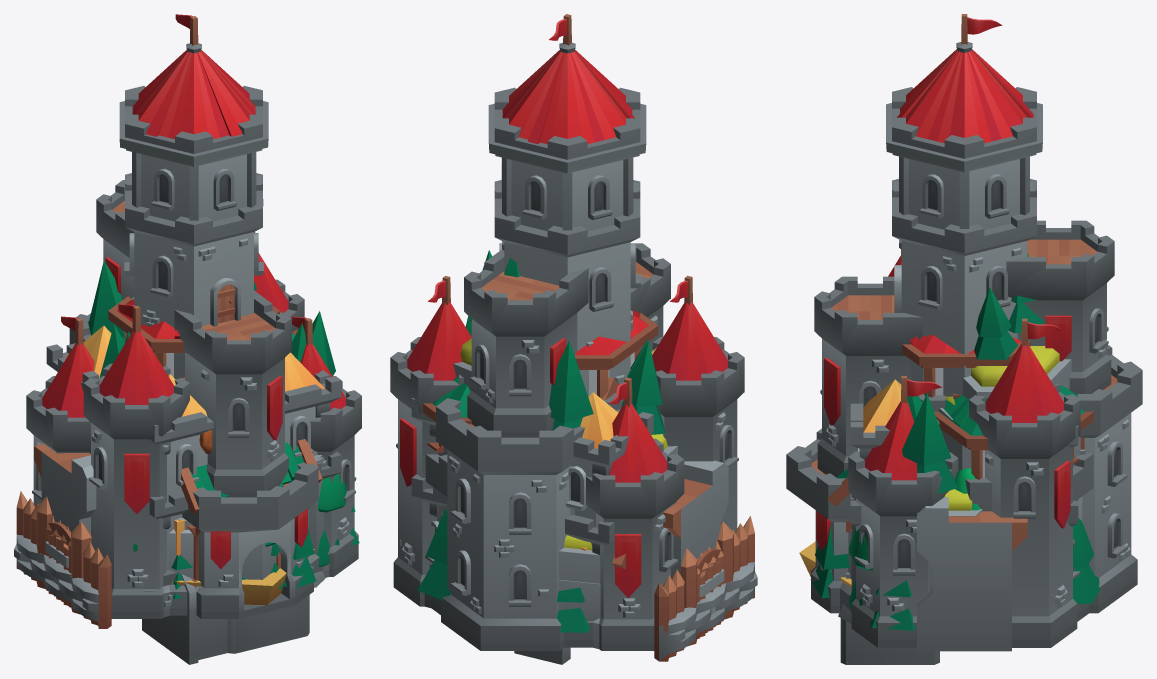
The model's file is map.glb.
3 renders of one model, left to right at view 1: azimuth 30°, elevation 25°; view 2: azimuth 150°, elevation 25°; view 3: azimuth 270°, elevation 25°, orthographic. The views are drawn at different scales.
Parts seen in each view (by area): view 1: building_castle_red, building_barracks_yellow, building_watermill_green, mountain_A_grass_trees, wall_straight_gate, fence_stone_straight, fence_wood_straight, fence_wood_straight_gate, building_tower_A_top_red, wall_straight, mountain_B_grass_trees, trees_B_large (+3 smaller); view 2: building_castle_red, building_barracks_yellow, mountain_A_grass_trees, fence_stone_straight, wall_straight, fence_wood_straight, building_tower_A_top_red, mountain_B_grass_trees, trees_A_large, fence_wood_straight_gate, building_archeryrange_green, wall_straight_gate (+2 smaller); view 3: building_castle_red, wall_straight, mountain_B_grass_trees, wall_straight_gate, building_archeryrange_green, trees_A_large, building_barracks_yellow, mountain_A_grass_trees, building_watermill_green, building_tower_A_top_red, trees_B_large.
Boxes of the visible parts, x1,y1,x2,y2 form: building_castle_red: (26, 14, 361, 618); building_barracks_yellow: (46, 325, 341, 617); building_watermill_green: (142, 439, 322, 664); mountain_A_grass_trees: (88, 261, 335, 554); wall_straight_gate: (40, 452, 96, 533); fence_stone_straight: (14, 534, 98, 621); fence_wood_straight: (16, 491, 111, 628); fence_wood_straight_gate: (17, 496, 111, 628); building_tower_A_top_red: (108, 296, 279, 380); wall_straight: (34, 444, 91, 521); mountain_B_grass_trees: (125, 281, 306, 579); trees_B_large: (133, 473, 346, 579); building_castle_red: (390, 14, 744, 650); building_barracks_yellow: (411, 347, 656, 648); mountain_A_grass_trees: (465, 316, 677, 621); fence_stone_straight: (659, 562, 757, 661); wall_straight: (663, 460, 728, 565); fence_wood_straight: (655, 516, 754, 661); building_tower_A_top_red: (575, 310, 658, 398); mountain_B_grass_trees: (438, 250, 648, 583); trees_A_large: (417, 508, 590, 632); fence_wood_straight_gate: (654, 521, 754, 661); building_archeryrange_green: (423, 377, 625, 569); wall_straight_gate: (663, 463, 725, 578); building_castle_red: (786, 14, 1142, 647); wall_straight: (917, 497, 1027, 651); mountain_B_grass_trees: (907, 253, 1080, 590); wall_straight_gate: (917, 506, 1027, 651); building_archeryrange_green: (934, 385, 1094, 579); trees_A_large: (810, 518, 1100, 630); building_barracks_yellow: (850, 379, 1078, 526); mountain_A_grass_trees: (851, 393, 957, 591); building_watermill_green: (827, 468, 939, 664); building_tower_A_top_red: (902, 335, 1030, 398); trees_B_large: (848, 527, 872, 616).
Size of the model in its own units: 2.1 by 4.33 by 2.26.
1 material, 1 textured.
